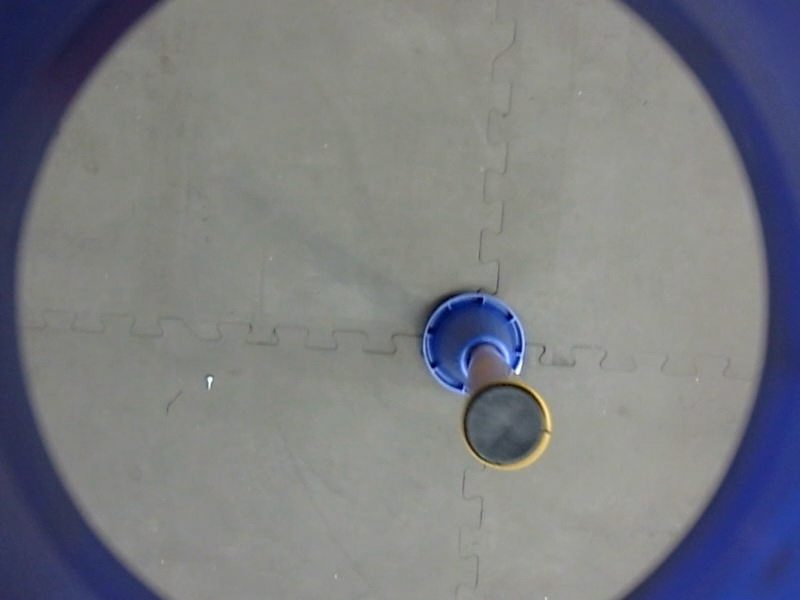tip: (453, 375, 561, 478)
